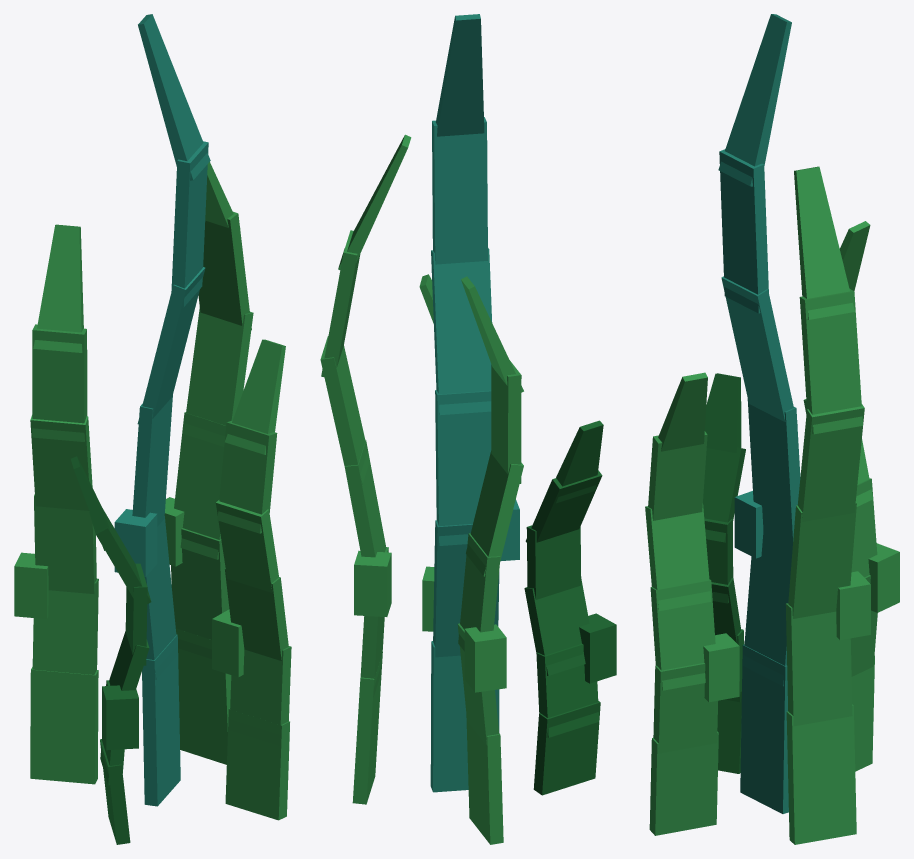
Rendered from seaweed.glb.
3 views of the same model, side by side, from view 1: azimuth 30°, elevation 25°; view 2: azimuth 150°, elevation 25°; view 3: azimuth 270°, elevation 25° (orthographic).
Parts seen in each view (by area): view 1: seaweed; view 2: seaweed; view 3: seaweed.
Part boxes in pixels (<box>): seaweed: <box>14,14,291,844</box>; seaweed: <box>320,14,616,844</box>; seaweed: <box>645,14,899,844</box>.
Bounding box in the file's own units: 0.947 × 3.08 × 0.9133.
